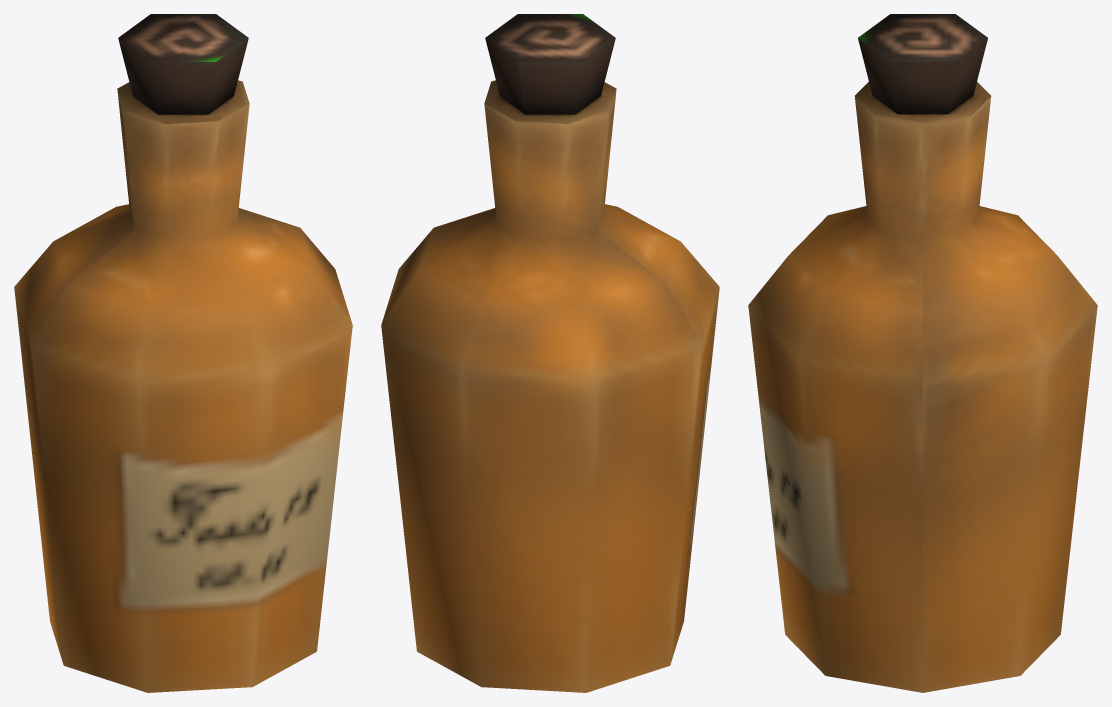
3 views of the same model, side by side, from view 1: azimuth 30°, elevation 25°; view 2: azimuth 150°, elevation 25°; view 3: azimuth 270°, elevation 25° (orthographic).
Parts seen in each view (by area): view 1: Tube MODULO 02; view 2: Tube MODULO 02; view 3: Tube MODULO 02.
Part boxes in pixels (<box>): Tube MODULO 02: <box>14,14,352,692</box>; Tube MODULO 02: <box>381,14,719,692</box>; Tube MODULO 02: <box>748,14,1097,692</box>.
Size of the model in its own units: 196 by 369 by 196.
